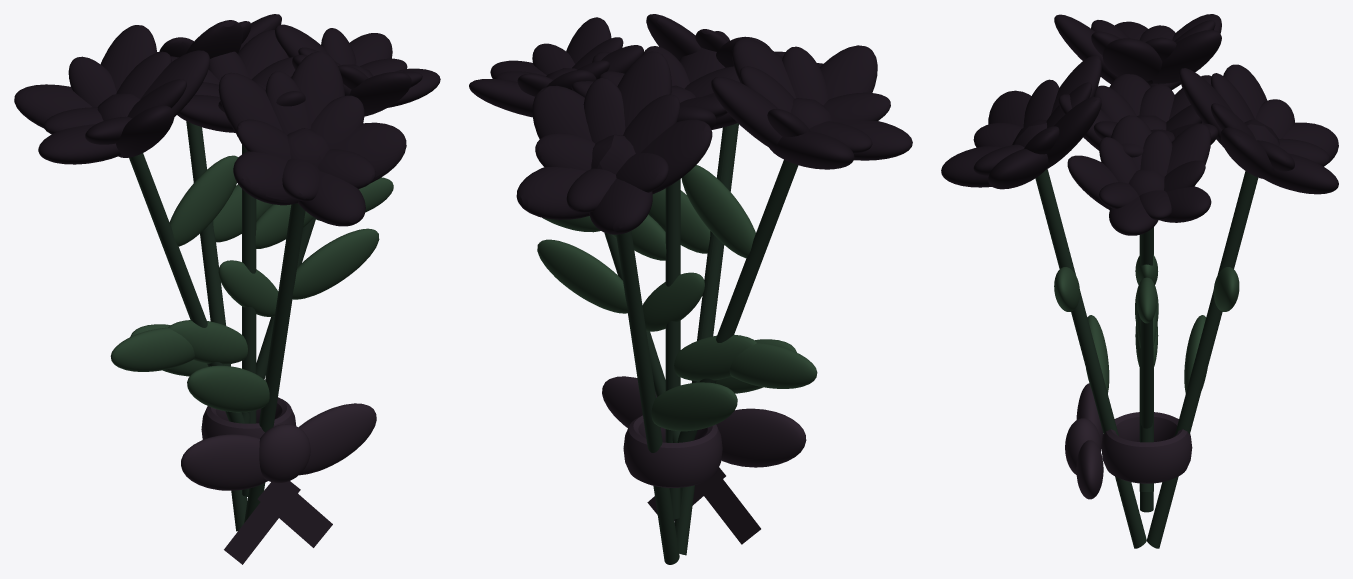
File: Flores_funebres_Teresa.fbx
The picture shows the model from 3 angles, left to right: view 1: azimuth 30°, elevation 25°; view 2: azimuth 150°, elevation 25°; view 3: azimuth 270°, elevation 25°; orthographic projection. The views are drawn at different scales.
Visible parts, largest first — view 1: Flor.001, Flor.002, Sphere, Sphere.001, Hoja_01.002, Tallo_01.002, Hoja_02.002, Nudo_liston, Cola_liston_izquierda, Hoja_02, Hoja_02.001, Tallo_01 (+26 smaller); view 2: Flor.002, Flor.001, Banda_liston, Sphere, Hoja_01.002, Tallo_01.002, Hoja_02.002, Tallo_01, Petalo_01.029, Hoja_02, Hoja_02.001, Petalo_01.027 (+22 smaller); view 3: Flor.002, Flor.001, Banda_liston, Petalo_01.029, Petalo_01.028, Tallo_01.001, Petalo_01.027, Petalo_01.015, Petalo_01.017, Sphere.001, Petalo_01.019, Petalo_01.018 (+17 smaller).
Boxes of the visible parts, left/top/right/bottom form: Flor.001: left=187, top=51, right=406, bottom=522; Flor.002: left=130, top=14, right=281, bottom=531; Sphere: left=181, top=434, right=267, bottom=490; Sphere.001: left=298, top=403, right=376, bottom=475; Hoja_01.002: left=169, top=155, right=238, bottom=246; Tallo_01.002: left=129, top=153, right=244, bottom=423; Hoja_02.002: left=110, top=327, right=194, bottom=371; Nudo_liston: left=259, top=424, right=310, bottom=483; Cola_liston_izquierda: left=257, top=482, right=332, bottom=547; Hoja_02: left=168, top=320, right=247, bottom=364; Hoja_02.001: left=218, top=260, right=278, bottom=316; Tallo_01: left=242, top=145, right=256, bottom=496; Flor.002: left=516, top=51, right=737, bottom=564; Flor.001: left=646, top=14, right=823, bottom=555; Banda_liston: left=623, top=415, right=722, bottom=487; Sphere: left=716, top=408, right=806, bottom=467; Hoja_01.002: left=681, top=165, right=755, bottom=258; Tallo_01.002: left=677, top=160, right=798, bottom=442; Hoja_02.002: left=729, top=342, right=817, bottom=388; Tallo_01: left=665, top=179, right=680, bottom=519; Petalo_01.029: left=711, top=77, right=782, bottom=149; Hoja_02: left=674, top=334, right=756, bottom=381; Hoja_02.001: left=642, top=272, right=704, bottom=331; Petalo_01.027: left=819, top=45, right=877, bottom=99; Flor.002: left=1146, top=64, right=1338, bottom=548; Flor.001: left=941, top=55, right=1146, bottom=548; Banda_liston: left=1101, top=412, right=1192, bottom=483; Petalo_01.029: left=1152, top=30, right=1221, bottom=83; Petalo_01.028: left=1102, top=38, right=1162, bottom=81; Tallo_01.001: left=1140, top=228, right=1152, bottom=428; Petalo_01.027: left=1054, top=14, right=1117, bottom=83; Petalo_01.015: left=1166, top=123, right=1210, bottom=186; Petalo_01.017: left=1067, top=155, right=1118, bottom=209; Sphere.001: left=1076, top=440, right=1103, bottom=499; Petalo_01.019: left=1159, top=186, right=1211, bottom=222; Petalo_01.018: left=1109, top=196, right=1158, bottom=235.
Size of the model in its own units: 19.37 by 23.38 by 17.5.
